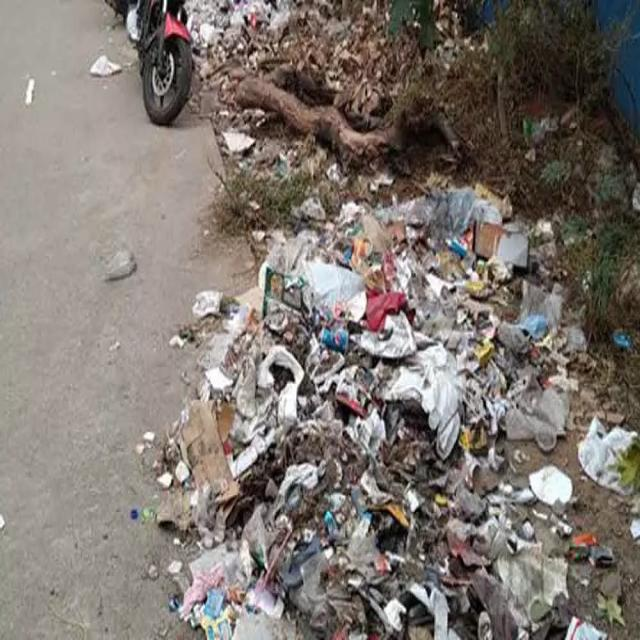garbage: (107, 0, 640, 640)
